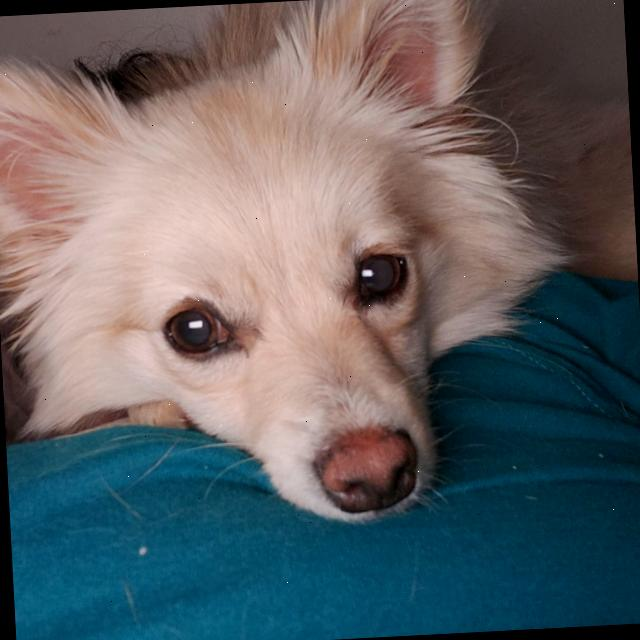pomeranian_dog: (0, 0, 535, 559)
